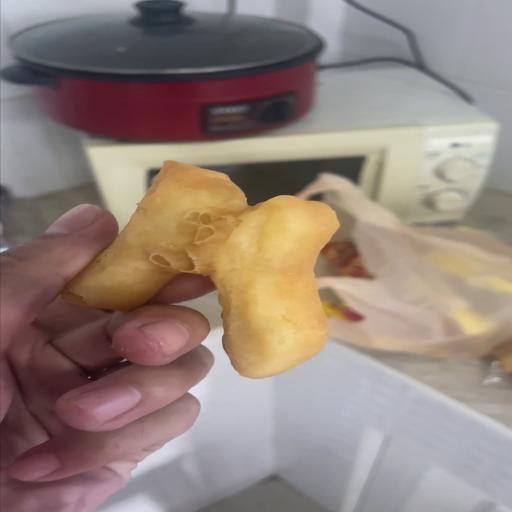street_golden_defect: (66, 162, 338, 378)
